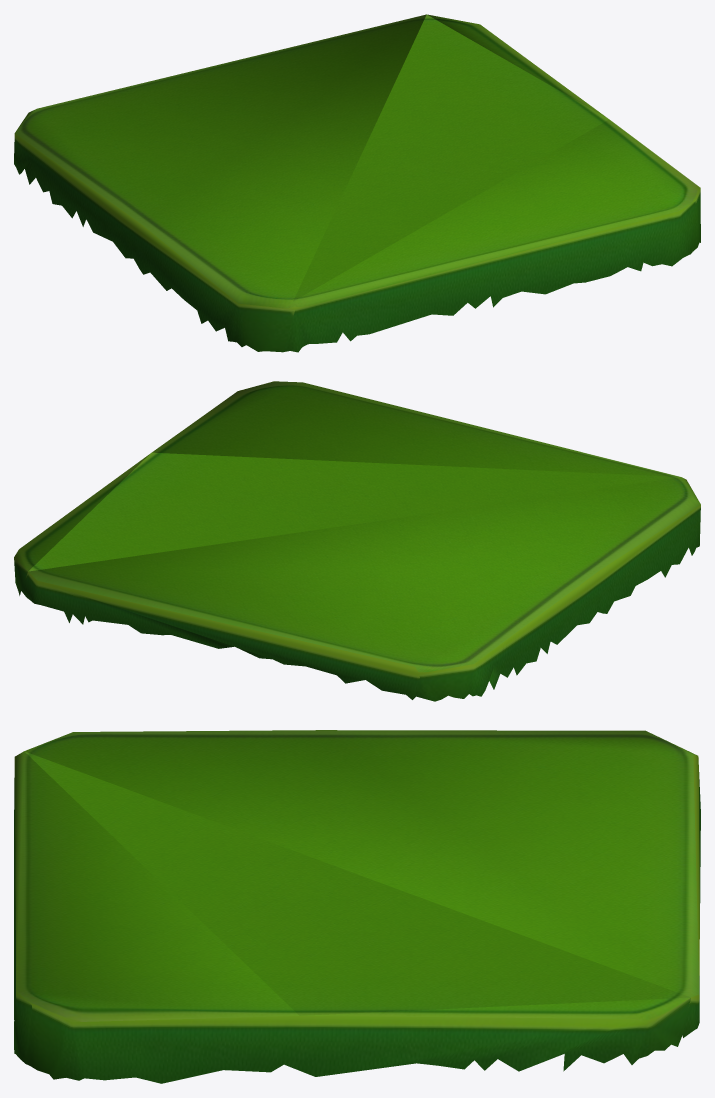
The model's file is grass.fbx.
3 views of the same model, one above another, from view 1: azimuth 30°, elevation 25°; view 2: azimuth 150°, elevation 25°; view 3: azimuth 270°, elevation 25° (orthographic). The views are drawn at different scales.
Visible parts, largest first — view 1: tmp7dboq4cc.ply; view 2: tmp7dboq4cc.ply; view 3: tmp7dboq4cc.ply.
Part boxes in pixels (bbox=[...]): tmp7dboq4cc.ply: bbox=[14, 14, 700, 352]; tmp7dboq4cc.ply: bbox=[14, 381, 700, 701]; tmp7dboq4cc.ply: bbox=[14, 730, 700, 1083].
Bounding box in the file's own units: 199 × 21.86 × 199.
1 material, 1 textured.
